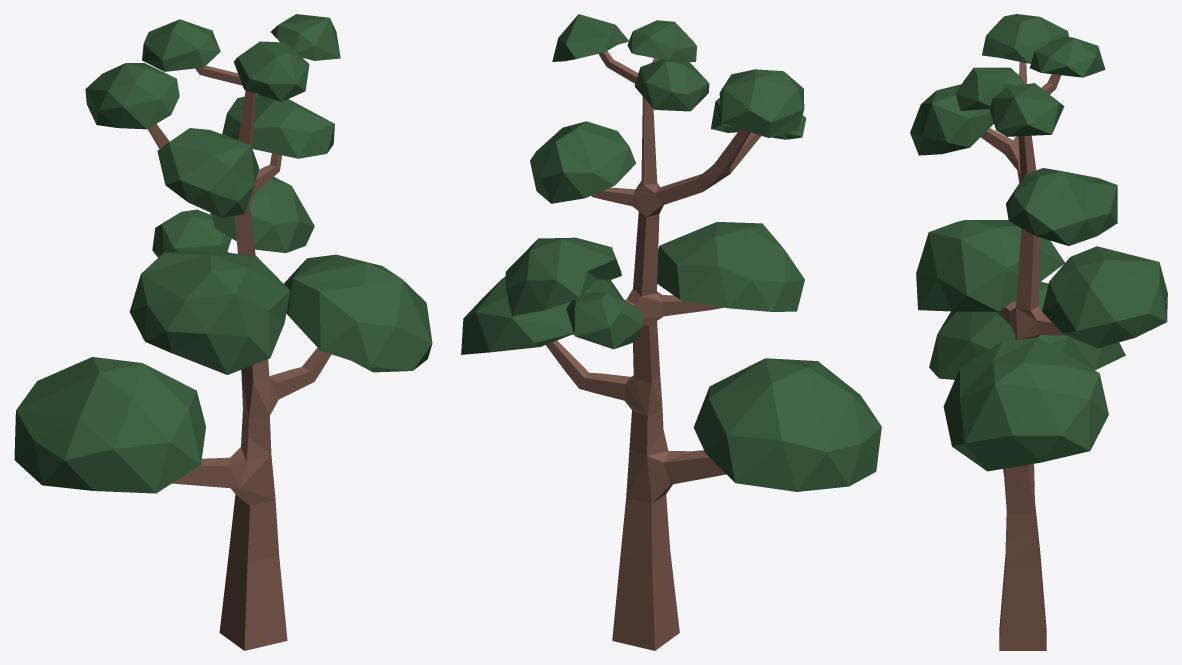
The model's file is tree6.glb.
The picture shows the model from 3 angles, left to right: view 1: azimuth 30°, elevation 25°; view 2: azimuth 150°, elevation 25°; view 3: azimuth 270°, elevation 25°; orthographic projection. The views are drawn at different scales.
Parts seen in each view (by area): view 1: Tree6_1; view 2: Tree6_1; view 3: Tree6_1.
Part boxes in pixels (left/top/right/bottom): Tree6_1: left=14, top=14, right=432, bottom=650; Tree6_1: left=461, top=14, right=881, bottom=650; Tree6_1: left=910, top=14, right=1167, bottom=650.
Size of the model in its own units: 4.54 by 6.8 by 2.73.
